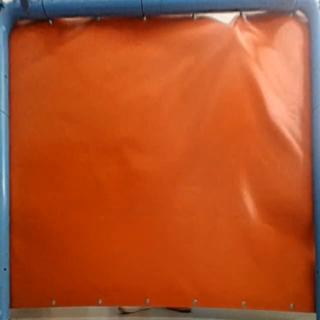Hit-hRxx: (227, 26, 240, 36)
